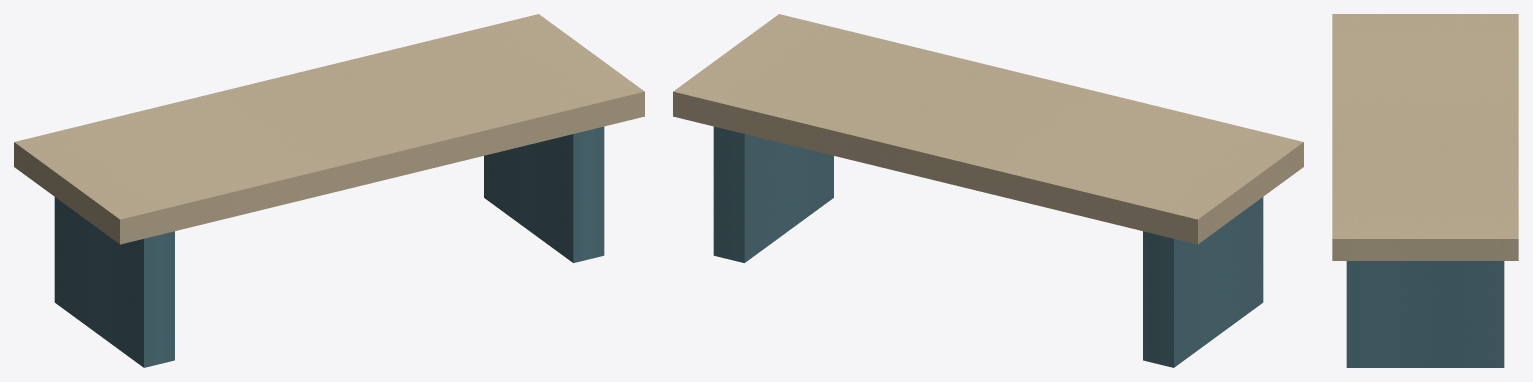
File: atlas100-sailpunk-util03.lod2.glb
The picture shows the model from 3 angles, left to right: view 1: azimuth 30°, elevation 25°; view 2: azimuth 150°, elevation 25°; view 3: azimuth 270°, elevation 25°; orthographic projection. The views are drawn at different scales.
Parts seen in each view (by area): view 1: atlas100-sailpunk-util03:part-002, atlas100-sailpunk-util03:part-000, atlas100-sailpunk-util03:part-001; view 2: atlas100-sailpunk-util03:part-002, atlas100-sailpunk-util03:part-000, atlas100-sailpunk-util03:part-001; view 3: atlas100-sailpunk-util03:part-002, atlas100-sailpunk-util03:part-001.
Boxes of the visible parts, box(x1,y1,x2,y2) form: atlas100-sailpunk-util03:part-002: box(14, 14, 644, 244); atlas100-sailpunk-util03:part-000: box(54, 197, 174, 367); atlas100-sailpunk-util03:part-001: box(484, 126, 604, 262); atlas100-sailpunk-util03:part-002: box(673, 14, 1303, 244); atlas100-sailpunk-util03:part-000: box(1143, 197, 1263, 367); atlas100-sailpunk-util03:part-001: box(713, 126, 833, 262); atlas100-sailpunk-util03:part-002: box(1332, 14, 1518, 260); atlas100-sailpunk-util03:part-001: box(1346, 261, 1504, 367).
Size of the model in its own units: 2.4 by 0.7098 by 0.8408.
2 materials, 2 textured.
